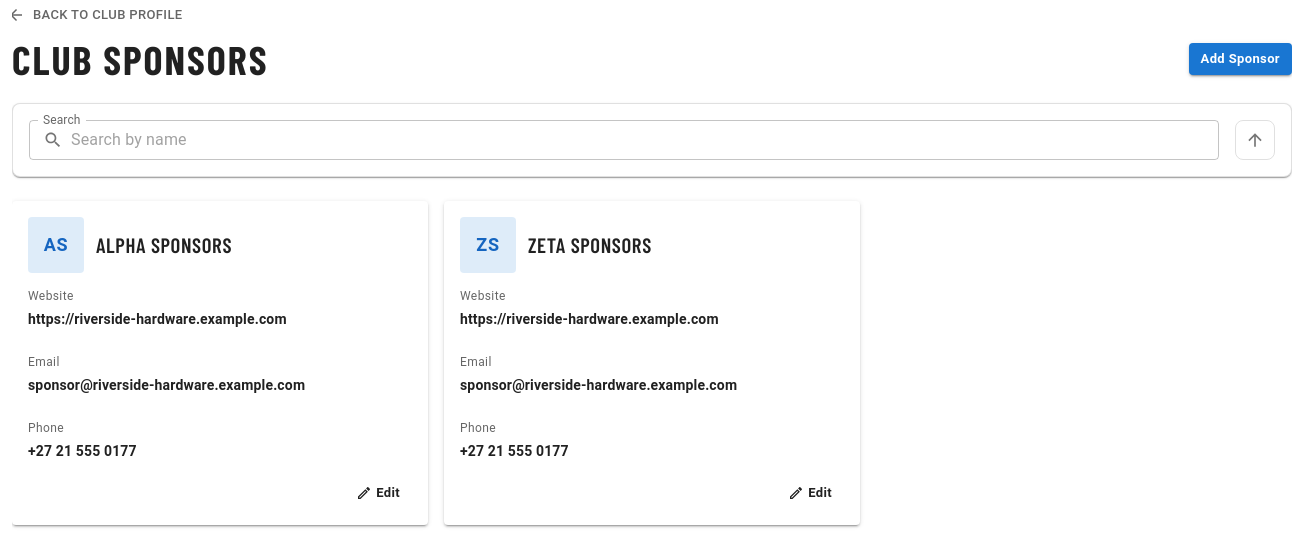
SponsorList › clicking the sort icon reverses the card order, and flips its own accessible name
Expected: the link "Alpha Sponsors" is shown, x1=96 y1=233 x2=232 y2=257
Expected: the headings read "Alpha Sponsors", "Zeta Sponsors", in this order, x1=96 y1=233 x2=232 y2=257; x1=528 y1=233 x2=652 y2=257
Click the button named "Name, Z to A" at (1255, 140), box x1=1235 y1=120 x2=1275 y2=160
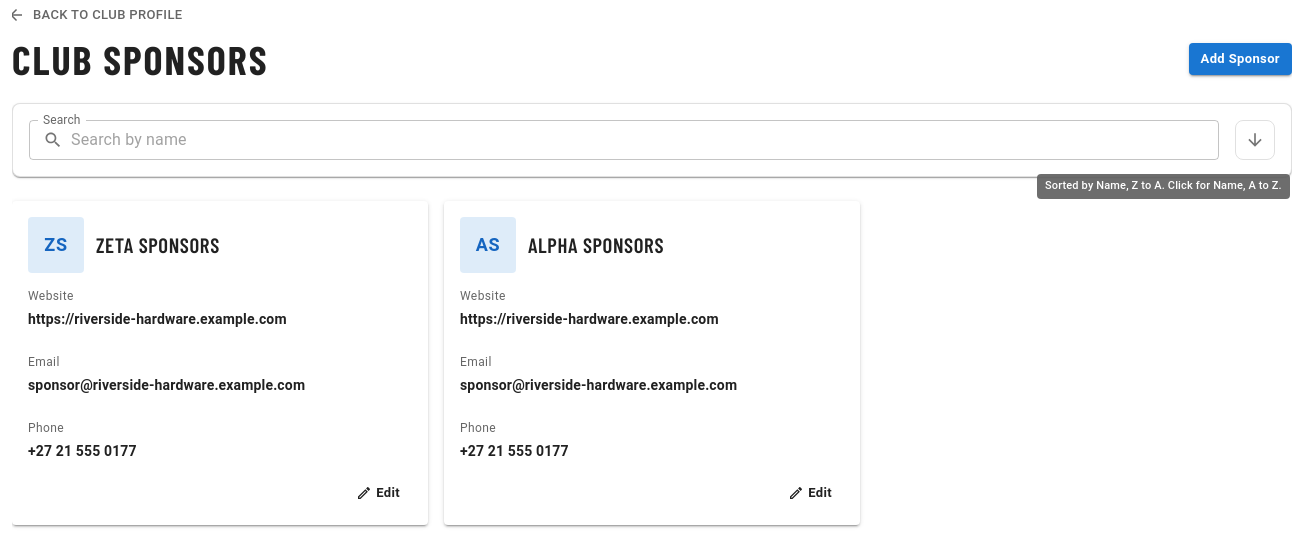
Expected: the headings read "Zeta Sponsors", "Alpha Sponsors", in this order, x1=96 y1=233 x2=220 y2=257; x1=528 y1=233 x2=664 y2=257
